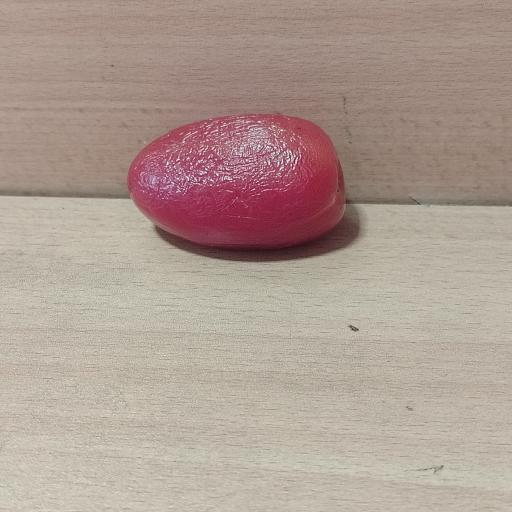spoiled: (128, 114, 345, 248)
